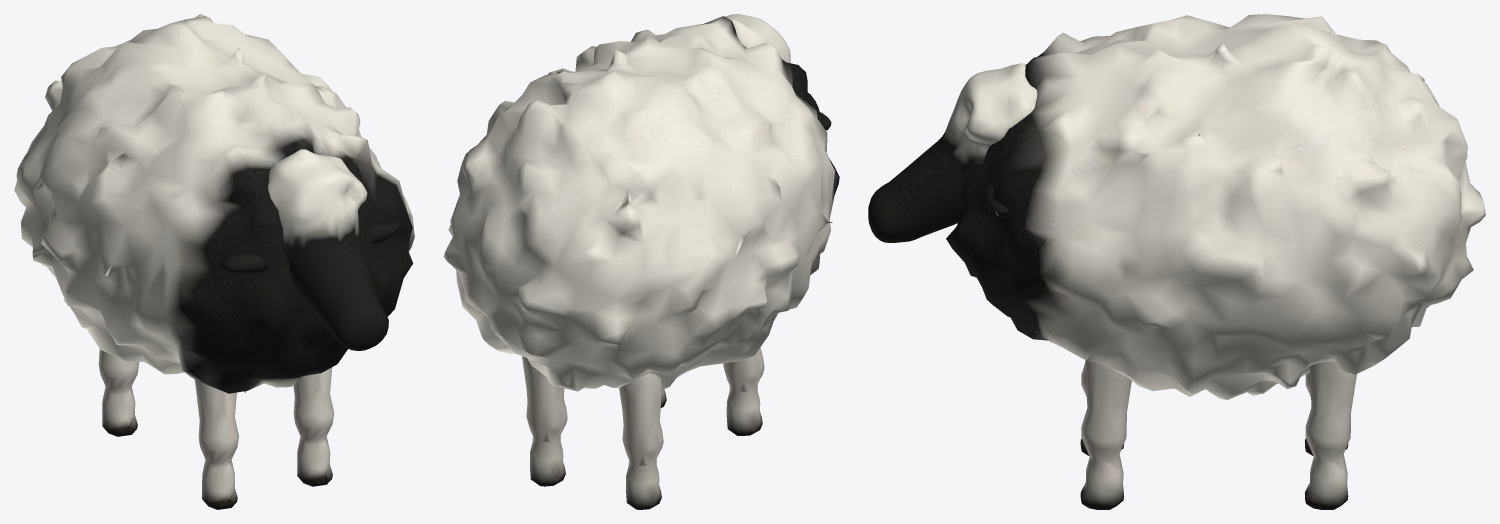
Rendered from animal_dorper.glb.
3 renders of one model, left to right at view 1: azimuth 30°, elevation 25°; view 2: azimuth 150°, elevation 25°; view 3: azimuth 270°, elevation 25°, orthographic. The views are drawn at different scales.
Parts seen in each view (by area): view 1: animal_dorper, head, leg0, leg1, leg2; view 2: animal_dorper, leg2, leg3, leg0, head; view 3: animal_dorper, head, leg3, leg1.
Boxes of the visible parts, x1,y1,x2,y2 form: animal_dorper: [14, 14, 414, 393]; head: [221, 149, 400, 350]; leg0: [194, 379, 238, 509]; leg1: [293, 367, 334, 486]; leg2: [98, 349, 139, 436]; animal_dorper: [443, 16, 839, 391]; leg2: [619, 373, 663, 509]; leg3: [522, 356, 567, 486]; leg0: [723, 347, 764, 435]; head: [725, 14, 831, 130]; animal_dorper: [946, 14, 1485, 399]; head: [868, 63, 1037, 242]; leg3: [1304, 361, 1356, 509]; leg1: [1080, 360, 1131, 509].
Bounding box in the file's own units: 0.3617 × 0.4513 × 0.5511.
1 material, 1 textured.
